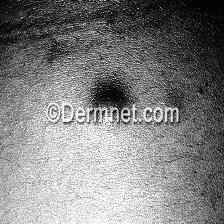Benign Marking or Mole: (96, 83, 125, 110)
